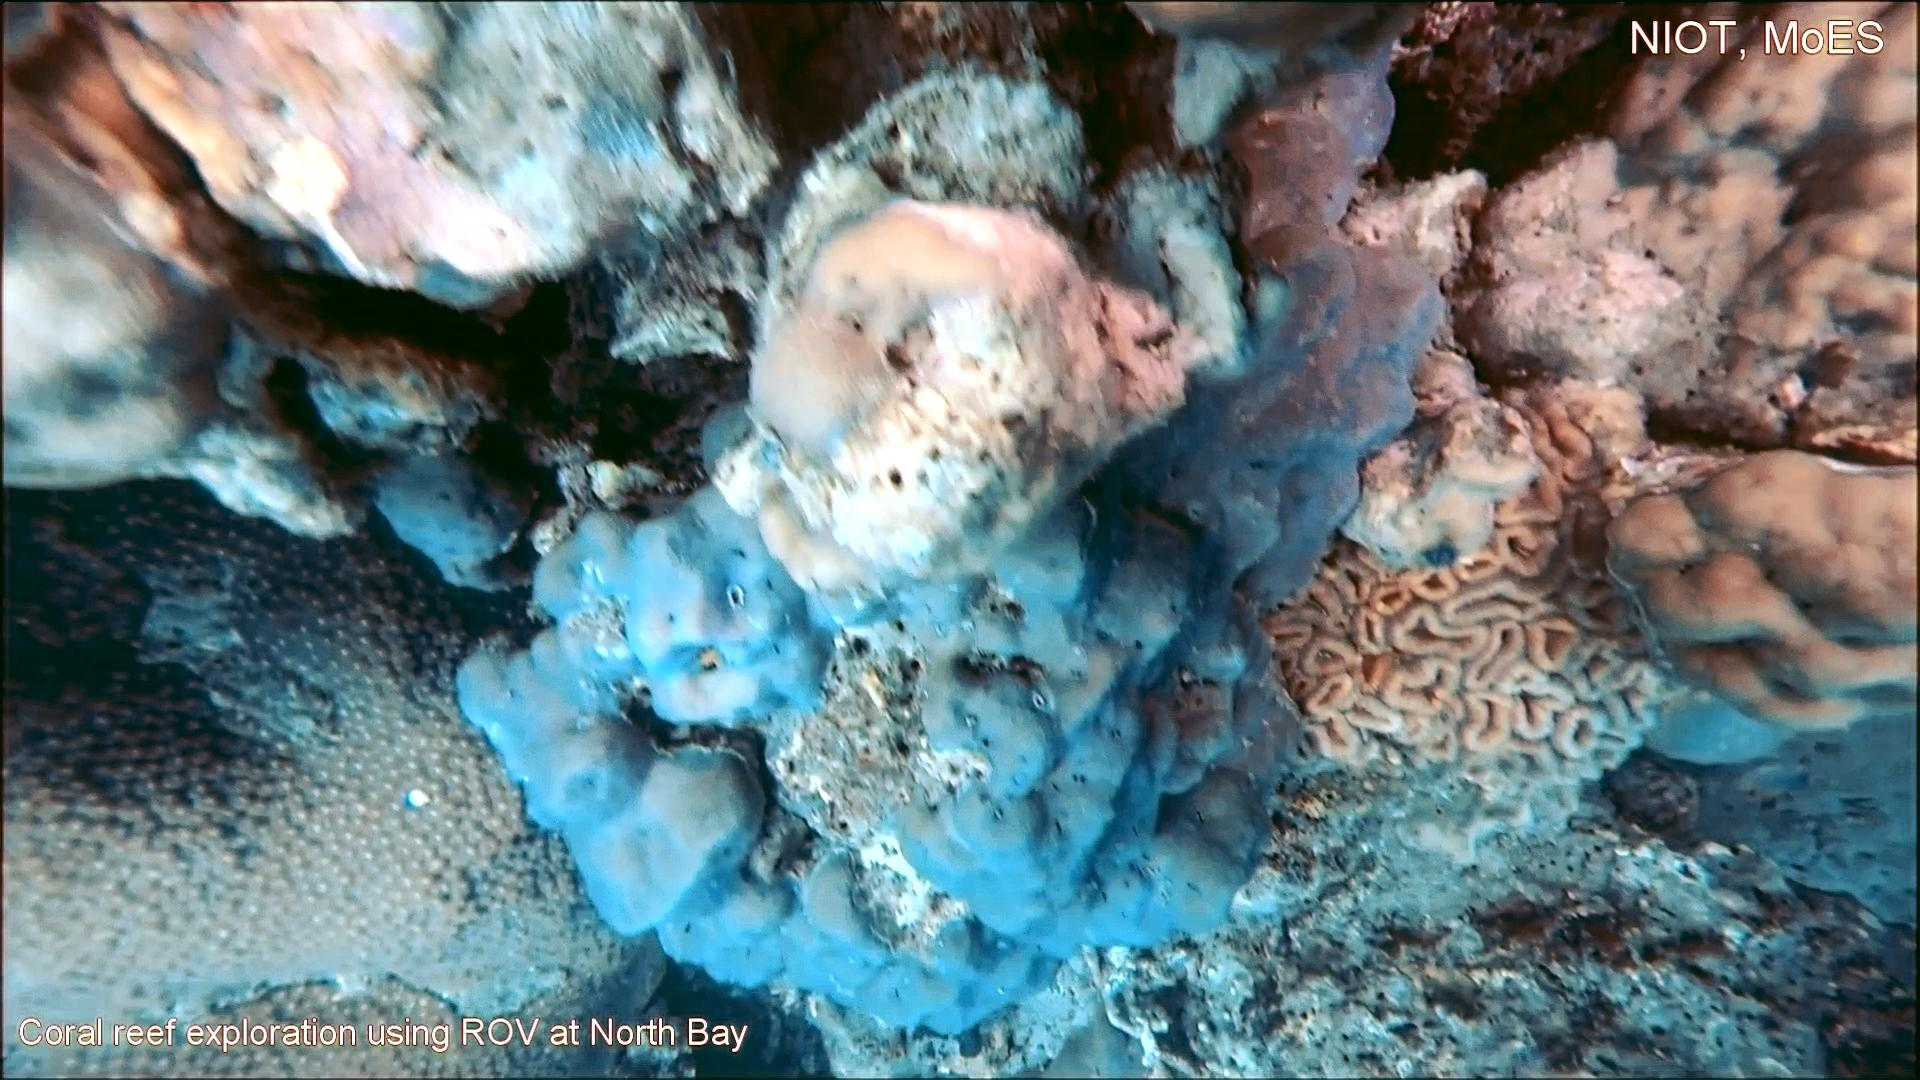Lobophyllia: (1246, 388, 1696, 831)
